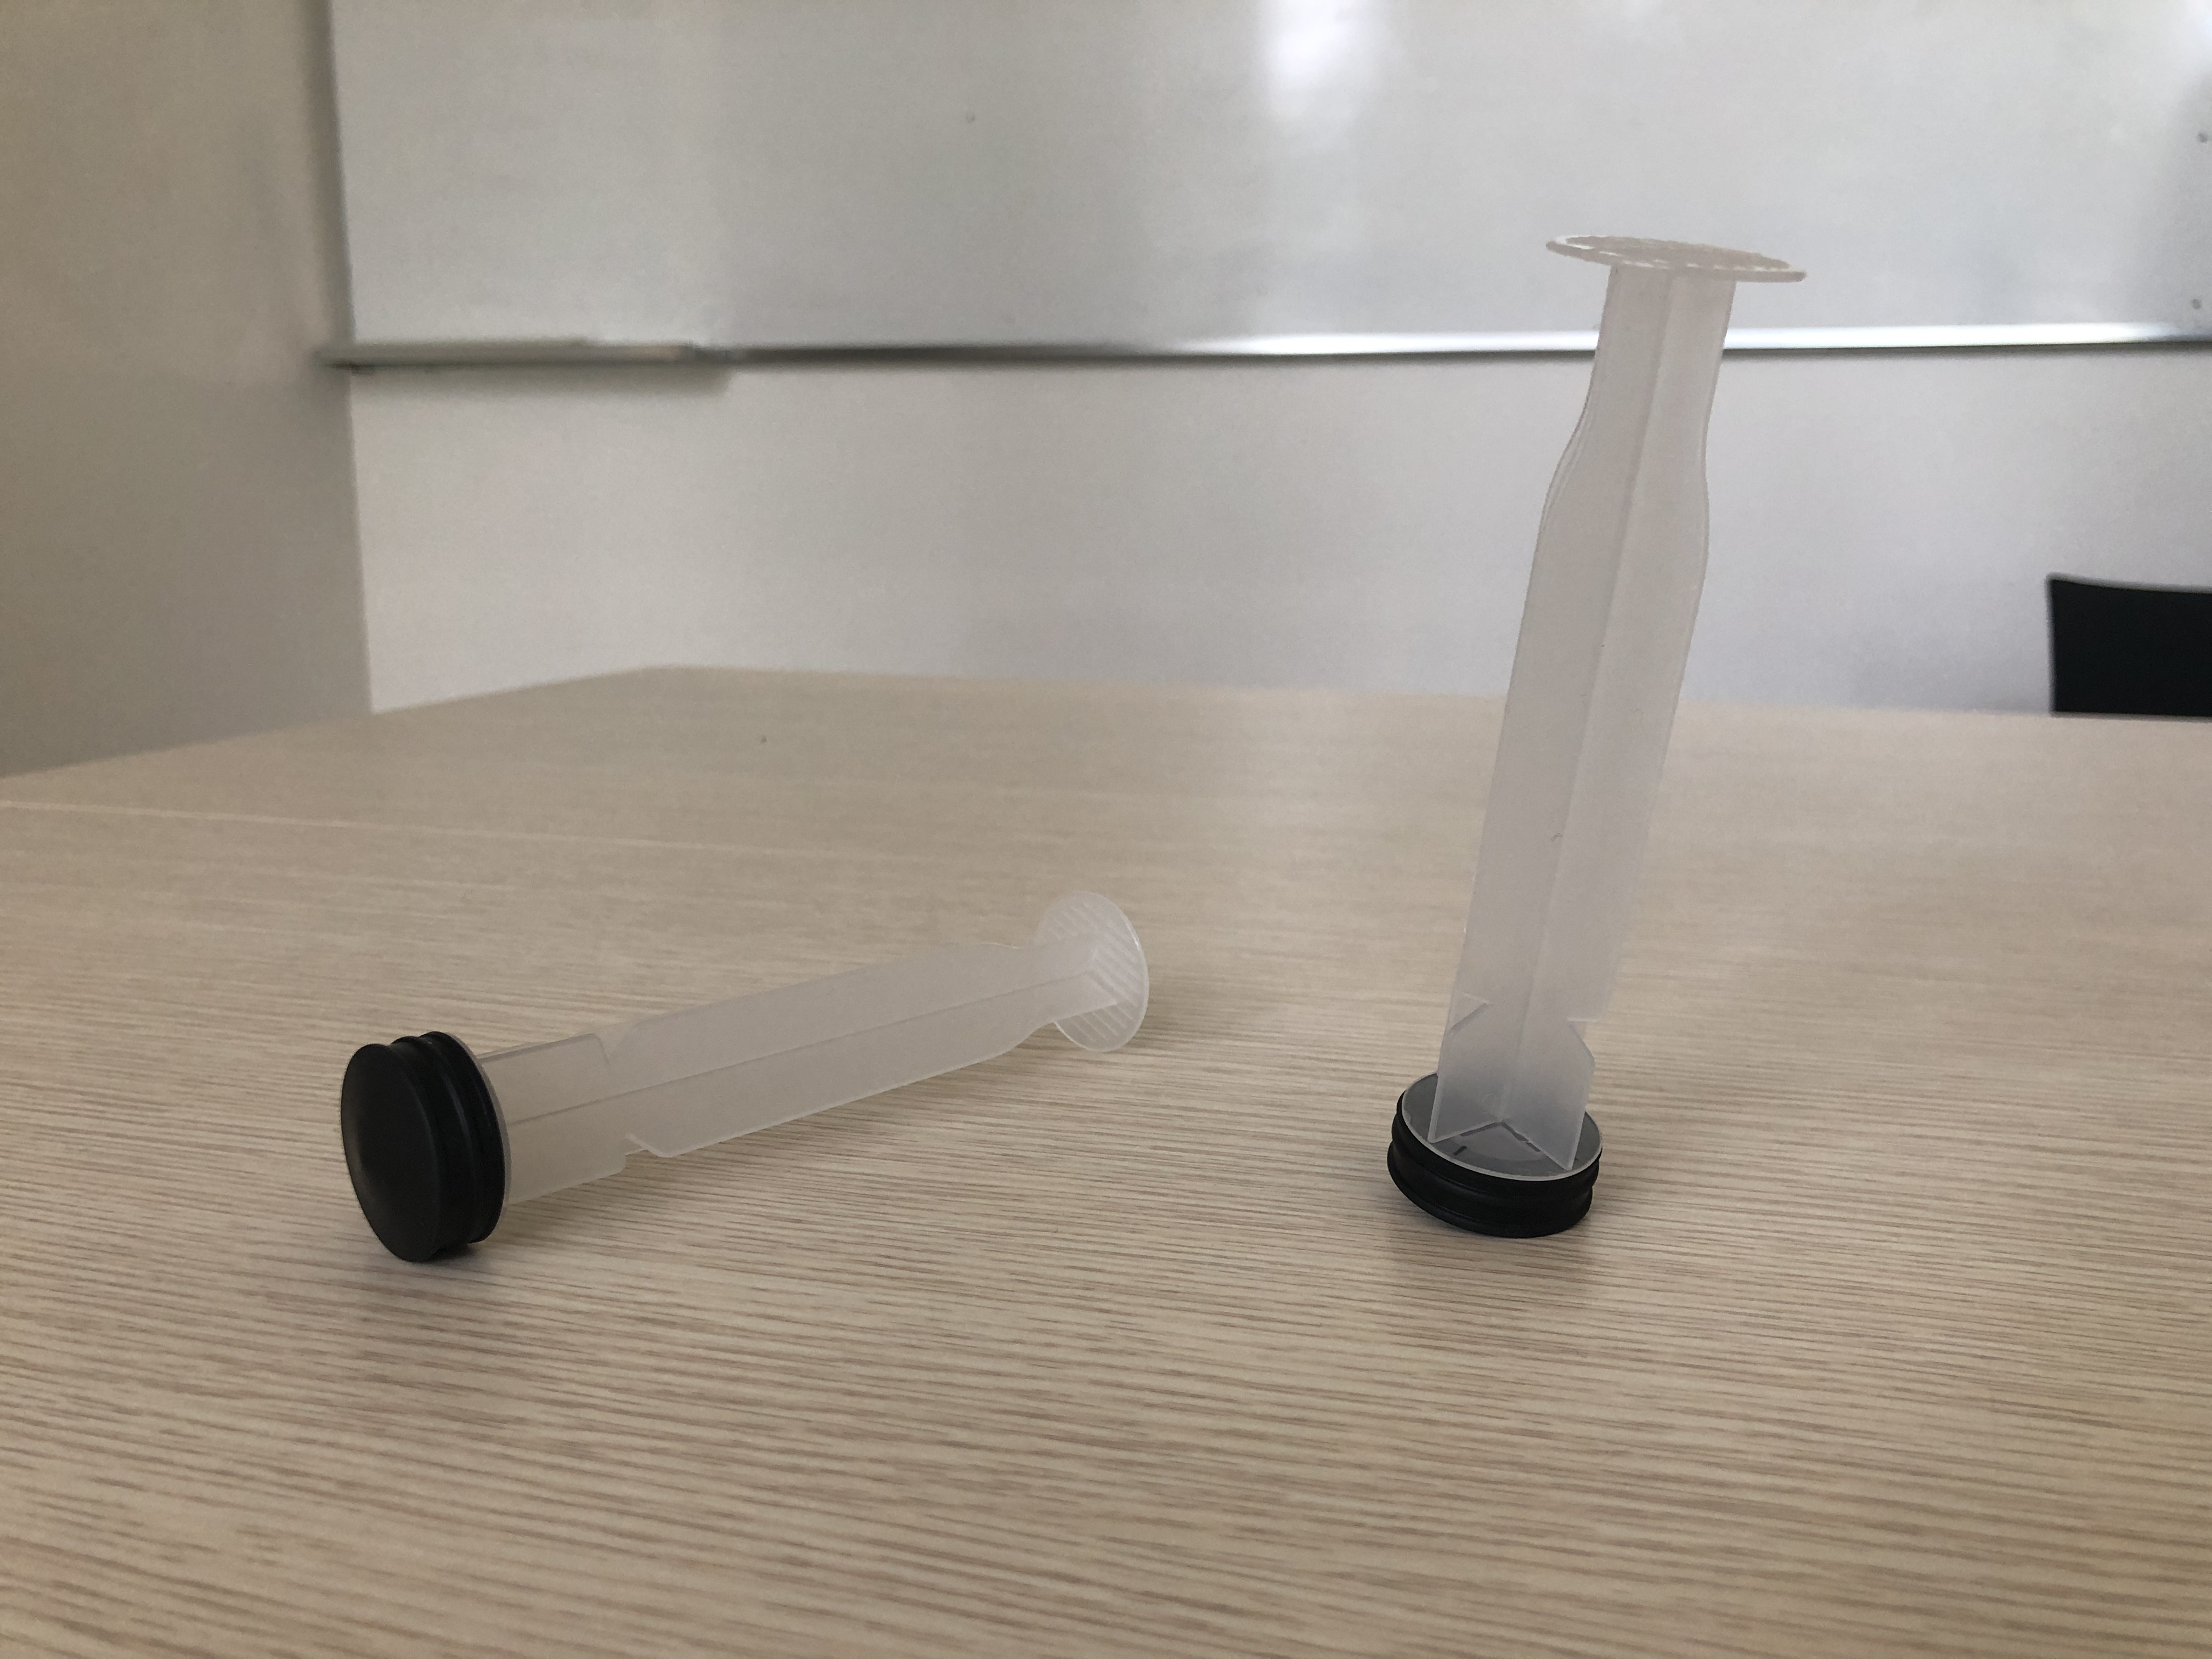plunger: (1379, 225, 1815, 1243), (338, 885, 1179, 1263)
